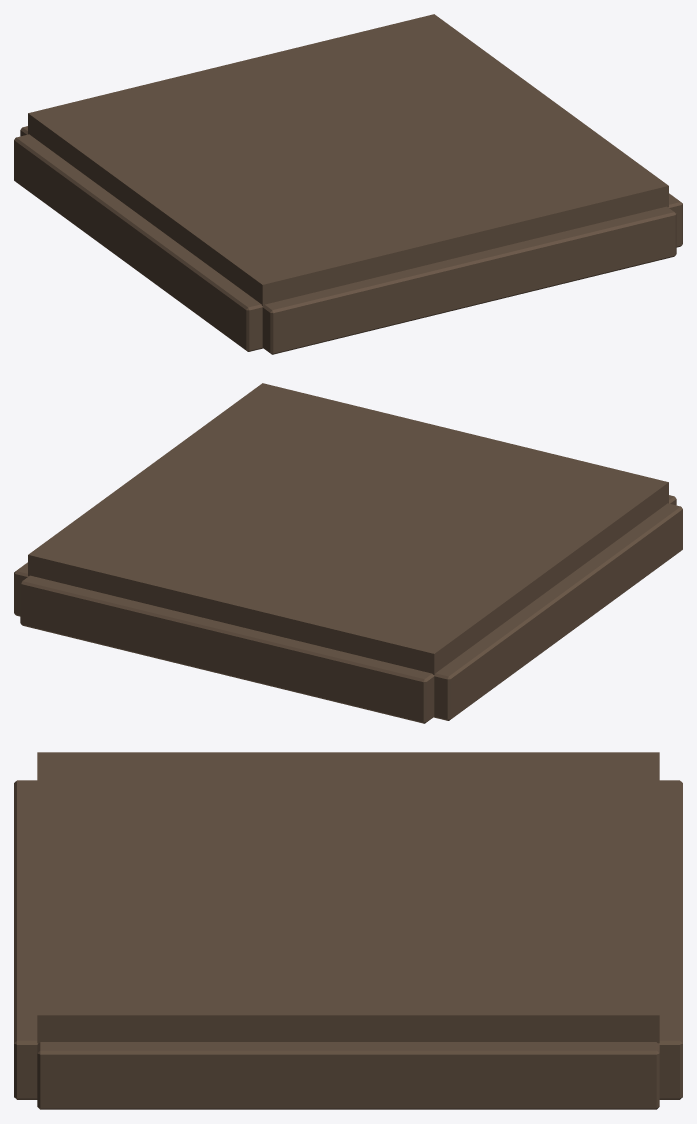
File: ceil_ex_light.glb
3 views of the same model, one above another, from view 1: azimuth 30°, elevation 25°; view 2: azimuth 150°, elevation 25°; view 3: azimuth 270°, elevation 25° (orthographic). The views are drawn at different scales.
Parts seen in each view (by area): view 1: ceil_ex_light; view 2: ceil_ex_light; view 3: ceil_ex_light.
Boxes of the visible parts, x1,y1,x2,y2 form: ceil_ex_light: (14,14,682,354); ceil_ex_light: (14,383,682,723); ceil_ex_light: (14,752,682,1109).
Bounding box in the file's own units: 4.3 × 0.66 × 4.3.
